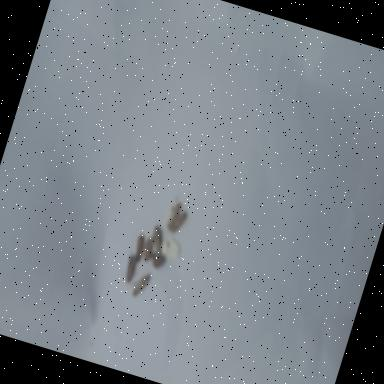pbw: (131, 271, 151, 298), (165, 201, 182, 230), (148, 226, 166, 252), (170, 208, 188, 234), (122, 254, 138, 282), (132, 234, 146, 260), (140, 236, 154, 260)
